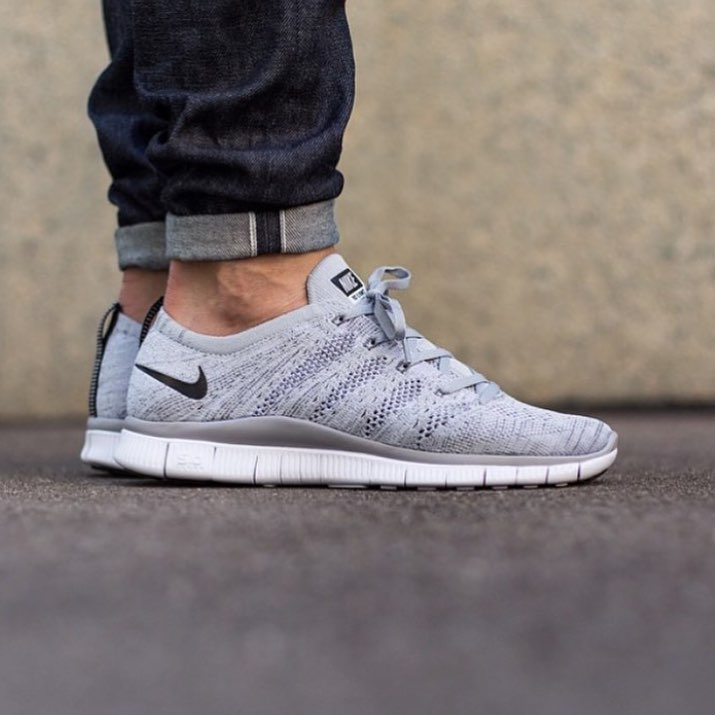sneaker: (103, 184, 633, 522), (76, 230, 180, 486)
